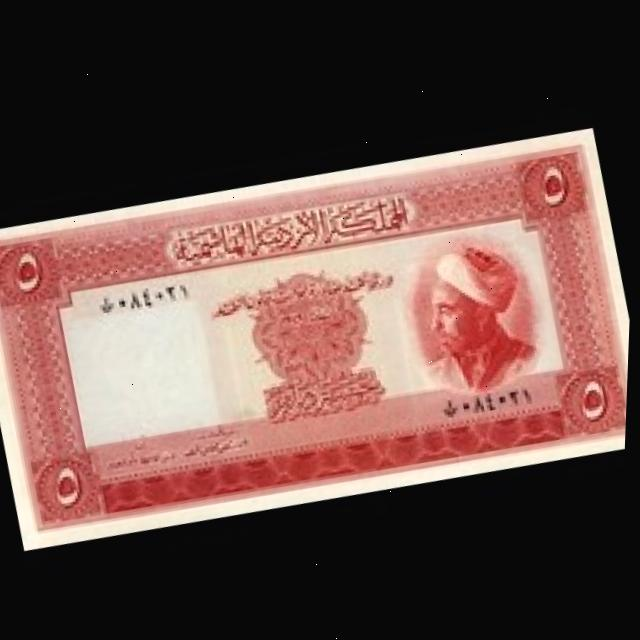banknote: (0, 92, 637, 563)
